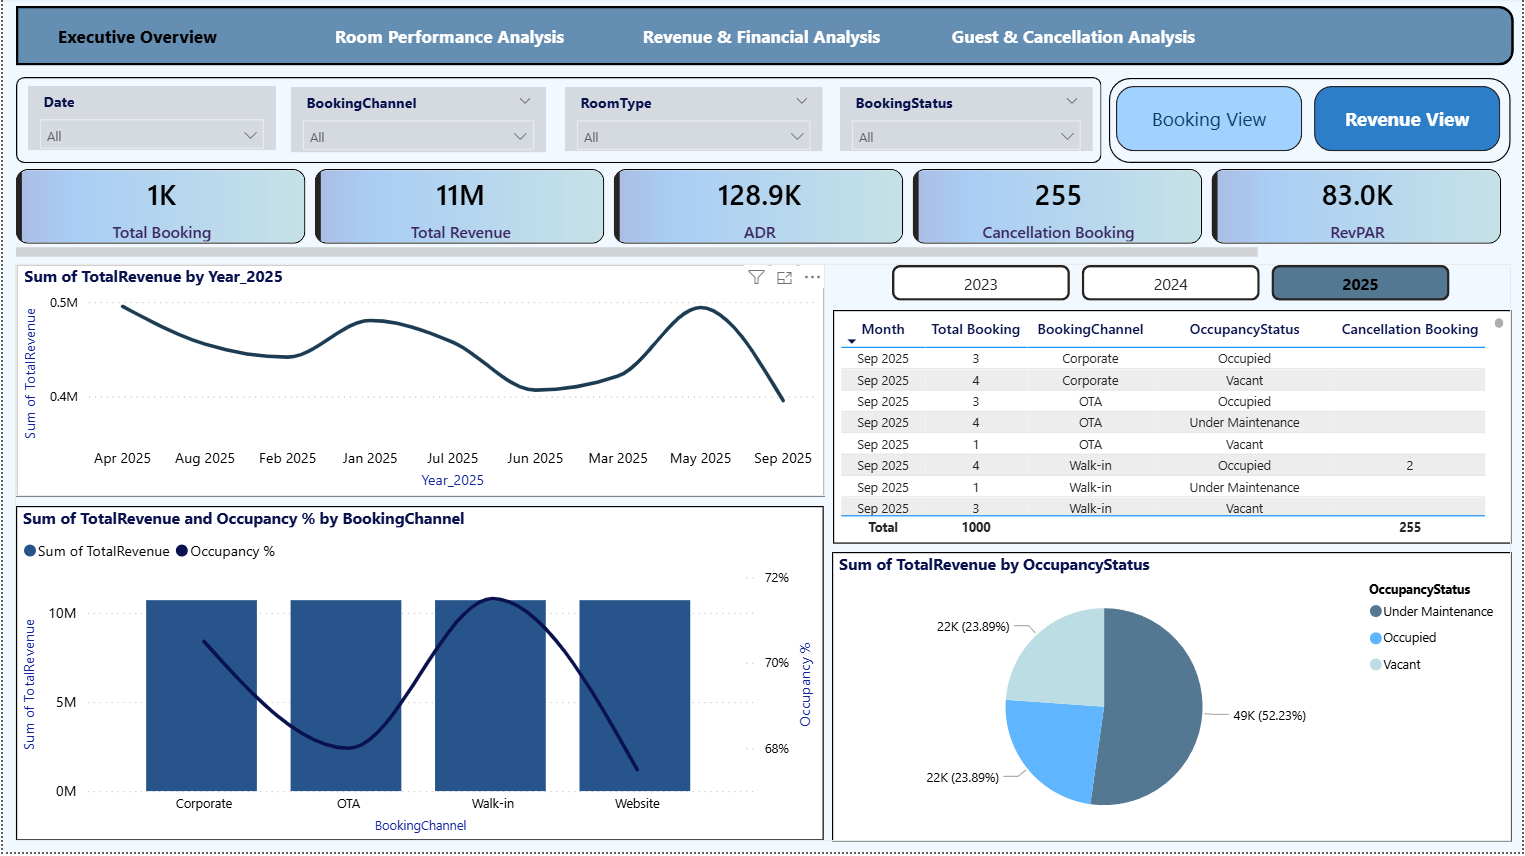

What the dashboard file says about the page in this screenshot:
{"tool":"powerbi","page":{"name":"Executive Overview ","canvas":[1280,720],"ordinal":1},"visuals":[{"type":"shape","box":[11.3,66.9,915.2,72.6],"z":0},{"type":"slicer","fields":{"Values":["DateTable.Date"]},"box":[21.5,74.3,208.8,54.1],"z":0,"group":"g2"},{"type":"pieChart","fields":{"Y":["Sum(Revenue.TotalRevenue)"],"Category":["Rooms.OccupancyStatus"]},"box":[698.3,467,572.8,243.8],"z":0,"group":"g3"},{"type":"shape","box":[932.2,67.2,338.5,71.6],"z":1000},{"type":"slicer","fields":{"Values":["Bookings.BookingChannel"]},"box":[243.6,75.1,214.6,54.8],"z":1000,"group":"g2"},{"type":"lineChart","fields":{"Y":["Sum(Revenue.TotalRevenue)"],"Category":["DateTable.Year_2025"]},"box":[10.9,224.5,681.6,195.5],"z":1000,"group":"g1"},{"type":"shape","box":[10.7,7.2,1262.7,50.1],"z":2000},{"type":"slicer","fields":{"Values":["Rooms.RoomType"]},"box":[473.9,75,217.1,54.1],"z":2000,"group":"g2"},{"type":"tableEx","fields":{"Values":["DateTable.Month","Bookings.Total Booking","Bookings.BookingChannel","Rooms.OccupancyStatus","Bookings.Cancellation Booking"]},"box":[699.5,263.3,572.2,197],"z":2000,"group":"g3"},{"type":"pageNavigator","box":[10.8,6.5,1259.6,50.6],"z":3000},{"type":"slicer","fields":{"Values":["Bookings.BookingStatus"]},"box":[705.9,75,212.9,54.1],"z":3000,"group":"g2"},{"type":"group","id":"g1","title":"Years","box":[9.8,224.5,682.8,195.5],"z":3000,"group":"g3"},{"type":"cardVisual","fields":{"Data":["Bookings.Total Booking","Sum(Revenue.TotalRevenue)","Sum(Revenue.ADR)","Bookings.Cancellation Rate","Sum(Revenue.RevPAR)","Rooms.Occupancy %"]},"box":[6.3,138.9,1265.7,86.9],"z":4000},{"type":"group","id":"g2","title":"Slicers","box":[21.5,74.3,897.3,55.5],"z":5000},{"type":"bookmarkNavigator","title":"View Bookmark ","box":[938.5,74.3,326,55.5],"z":7000},{"type":"lineStackedColumnComboChart","fields":{"Y":["Sum(Revenue.TotalRevenue)"],"Y2":["Rooms.Occupancy %"],"Category":["Bookings.BookingChannel"]},"box":[10.8,428.5,681.2,282.4],"z":7500},{"type":"bookmarkNavigator","title":"Year Bookmark ","box":[749.6,224.8,471,30.4],"z":8000},{"type":"group","id":"g3","title":"Revenue View","box":[9.8,224.5,1261.9,486.3],"z":9000}]}

Visuals, with their boxes in screenshot pixels (x1, y1, x2, y2), scaled from the page's 1280x720 canvas onto the 1525x856 screenshot:
shape: bbox(13, 80, 1104, 166)
slicer - DateTable.Date: bbox(26, 88, 274, 153)
pieChart - Sum(Revenue.TotalRevenue) x Rooms.OccupancyStatus: bbox(832, 555, 1514, 845)
shape: bbox(1111, 80, 1514, 165)
slicer - Bookings.BookingChannel: bbox(290, 89, 546, 154)
lineChart - Sum(Revenue.TotalRevenue) x DateTable.Year_2025: bbox(13, 267, 825, 499)
shape: bbox(13, 9, 1517, 68)
slicer - Rooms.RoomType: bbox(565, 89, 823, 153)
tableEx - DateTable.Month x Bookings.Total Booking: bbox(833, 313, 1515, 547)
pageNavigator: bbox(13, 8, 1514, 68)
slicer - Bookings.BookingStatus: bbox(841, 89, 1095, 153)
"Years" group: bbox(12, 267, 825, 499)
cardVisual - Bookings.Total Booking x Sum(Revenue.TotalRevenue): bbox(8, 165, 1515, 268)
"Slicers" group: bbox(26, 88, 1095, 154)
"View Bookmark " bookmarkNavigator: bbox(1118, 88, 1507, 154)
lineStackedColumnComboChart - Sum(Revenue.TotalRevenue) x Rooms.Occupancy %: bbox(13, 509, 824, 845)
"Year Bookmark " bookmarkNavigator: bbox(893, 267, 1454, 303)
"Revenue View" group: bbox(12, 267, 1515, 845)
